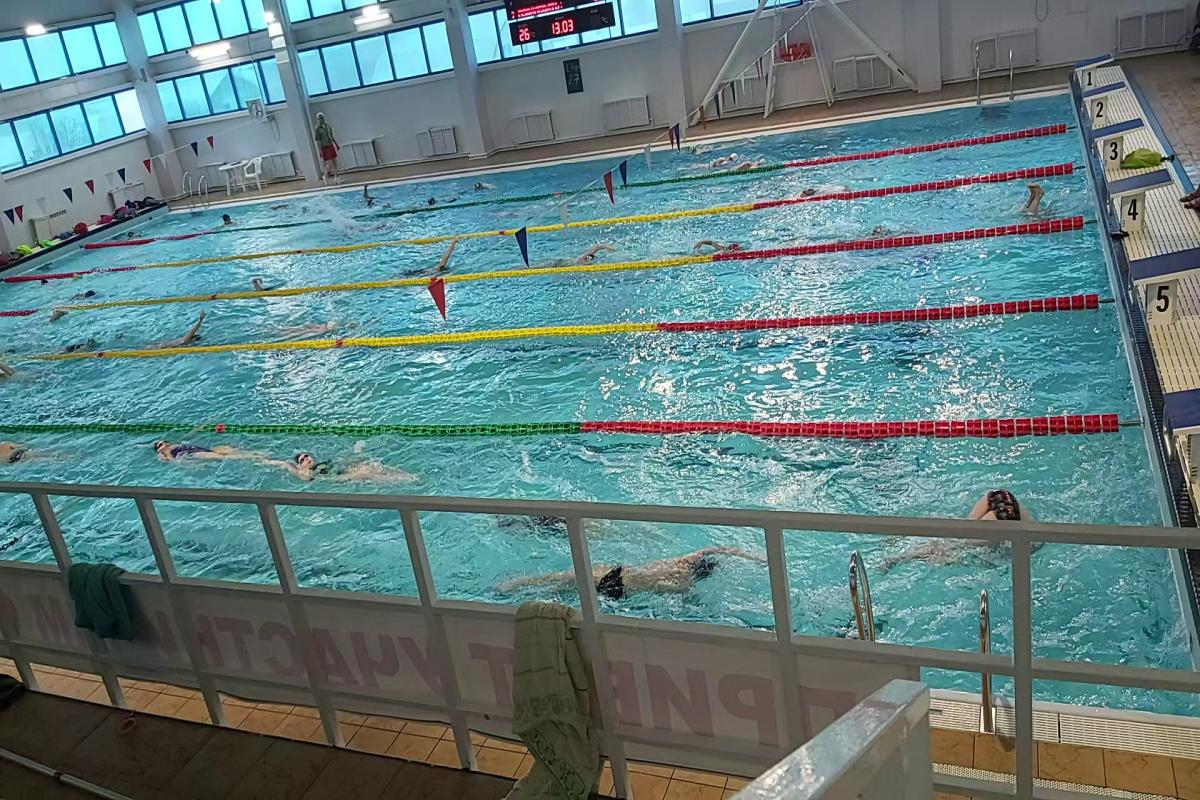swimmer: (503, 527, 766, 607), (278, 447, 423, 486), (147, 437, 276, 467), (2, 438, 89, 474), (152, 310, 228, 348), (965, 489, 1041, 522), (282, 313, 379, 334), (534, 244, 632, 262), (55, 331, 124, 350), (689, 236, 755, 252)
